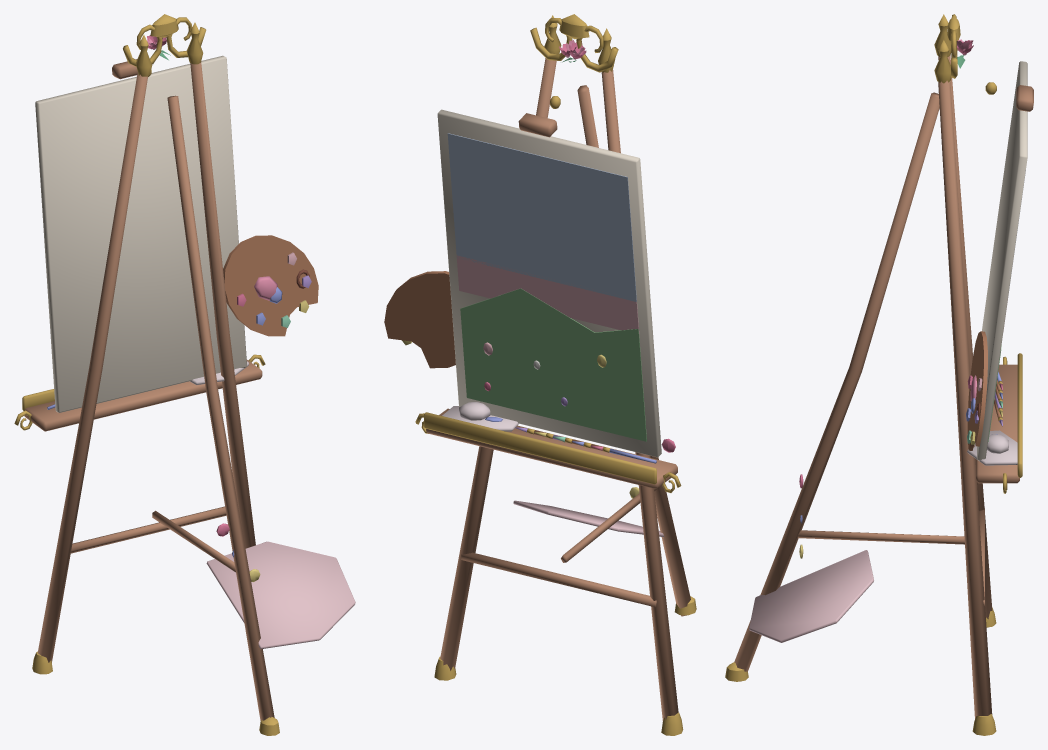
The model's file is easel.glb.
3 views of the same model, side by side, from view 1: azimuth 30°, elevation 25°; view 2: azimuth 150°, elevation 25°; view 3: azimuth 270°, elevation 25° (orthographic). The views are drawn at different scales.
Visible parts, largest first — view 1: easel; view 2: easel; view 3: easel.
Boxes of the visible parts, bbox=[...] form: easel: bbox=[14, 14, 355, 735]; easel: bbox=[384, 14, 696, 735]; easel: bbox=[725, 14, 1033, 735].
Size of what is drawn, in the model's own units: 0.9 by 1.9 by 0.8.
